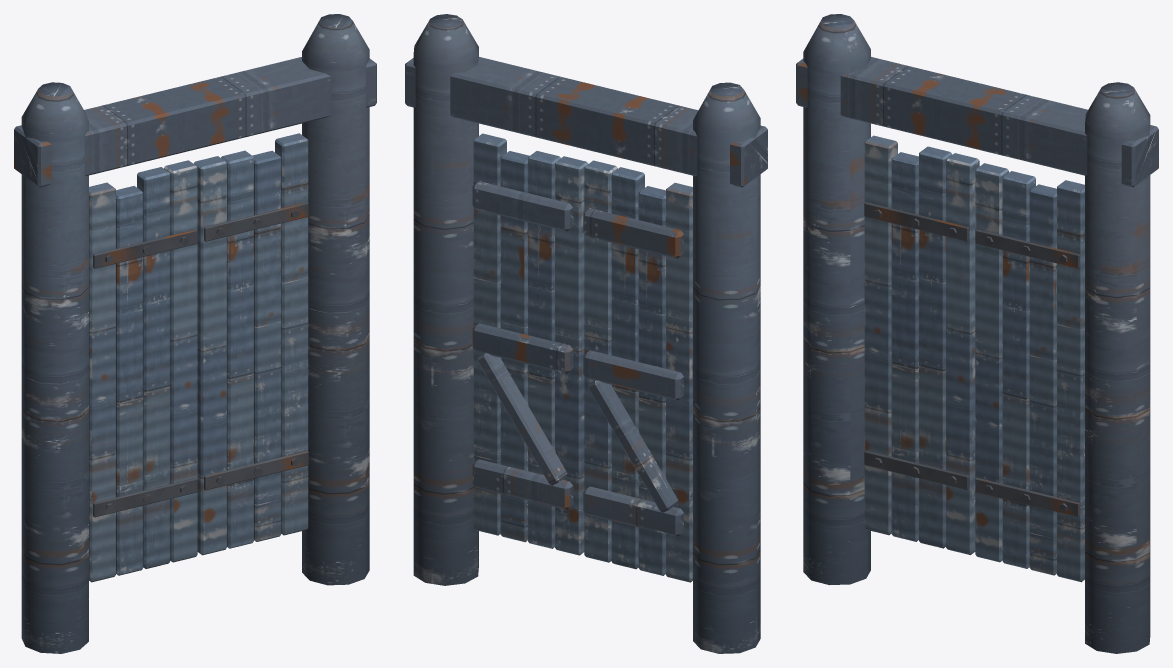
Rendered from sur_kapisi.glb.
3 renders of one model, left to right at view 1: azimuth 30°, elevation 25°; view 2: azimuth 150°, elevation 25°; view 3: azimuth 330°, elevation 25°, orthographic.
Visible parts, largest first — view 1: sur_kapisi, KanatSag, KanatSol; view 2: sur_kapisi, KanatSag, KanatSol; view 3: sur_kapisi, KanatSol, KanatSag.
Boxes of the visible parts, x1,y1,x2,y2 form: sur_kapisi: (14,14,376,653); KanatSag: (193,133,308,555); KanatSol: (89,160,197,582); sur_kapisi: (405,14,767,653); KanatSag: (472,133,588,555); KanatSol: (583,160,692,582); sur_kapisi: (796,14,1158,653); KanatSol: (864,135,979,554); KanatSag: (975,163,1084,582).
Bounding box in the file's own units: 3 × 4.65 × 0.515.
Materials: 1 (1 with a texture image).
